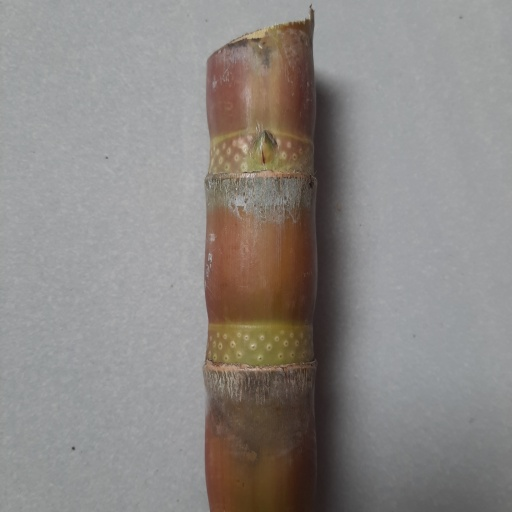Bud: (251, 131, 278, 168)
